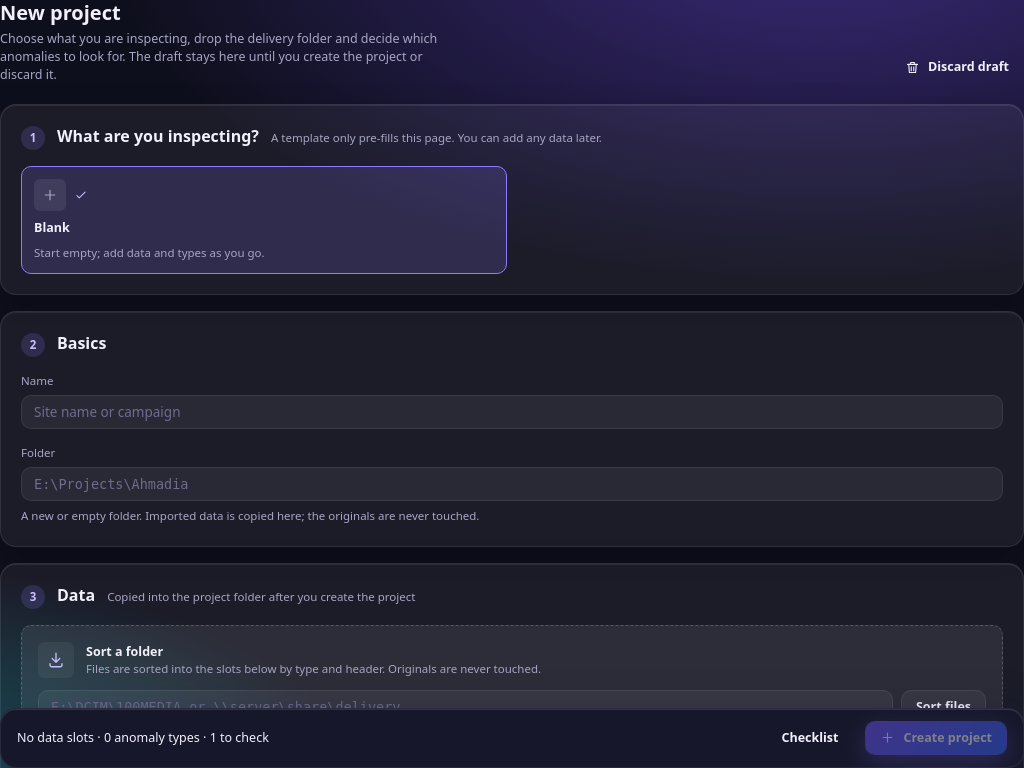
it: SetupPage › below 1100 px › the summary is a bottom bar with the checklist in a popover
Click the button "Checklist" at (810, 738), box [766,721,854,755]
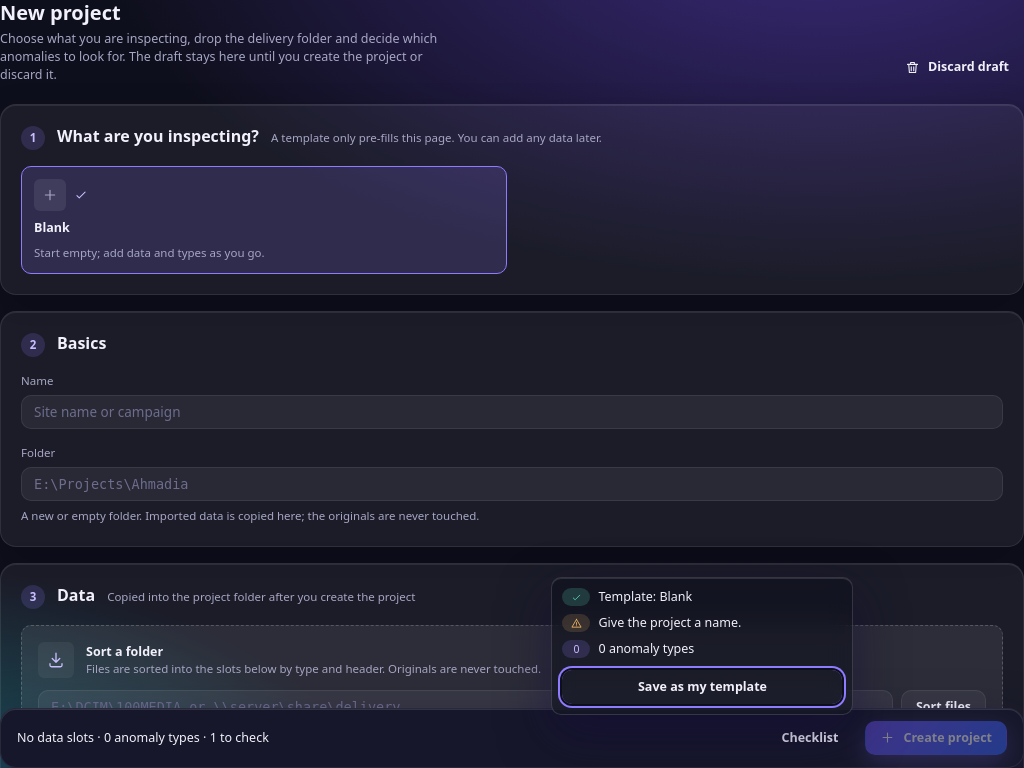
Expected: the number of buttons "Create project" is 1, [866,721,1007,755]
Expected: the dialog named "Setup checklist" shows "Give the project a name.", [598,614,741,631]
